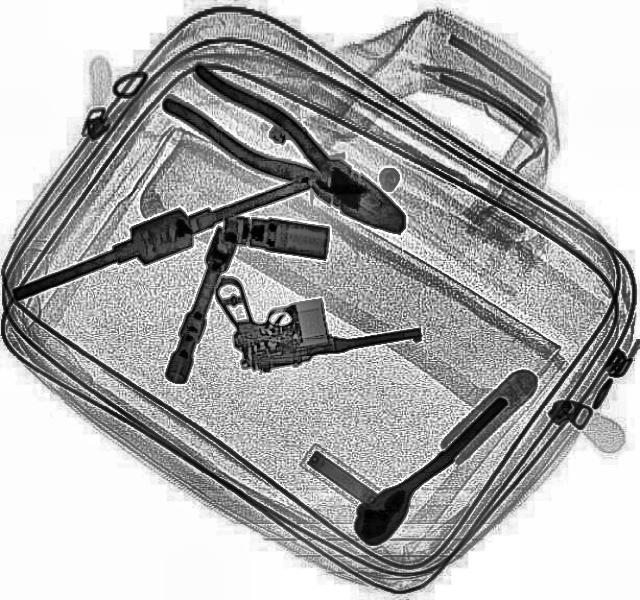Gun: (210, 247, 424, 378)
Pliers: (158, 58, 426, 252)
